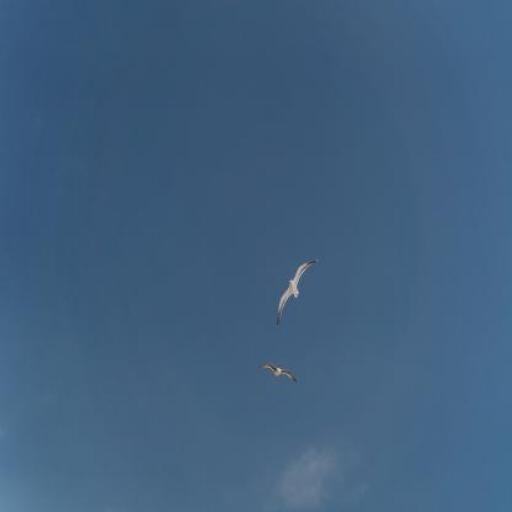bird: (276, 260, 318, 325), (258, 363, 296, 385)
